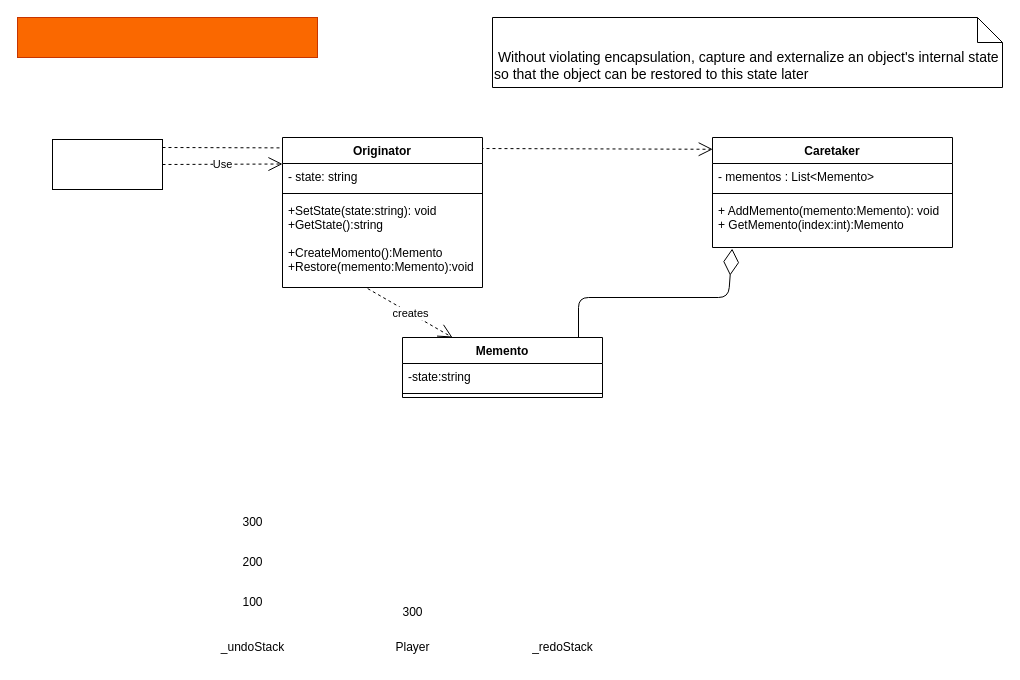
Some shapes in this 1020 by 680 pixel diagram are drawn without their labels. Each missing label, with the centre of its shape:
Client: the point at 107,164
Memento Design Pattern: the point at 167,37
